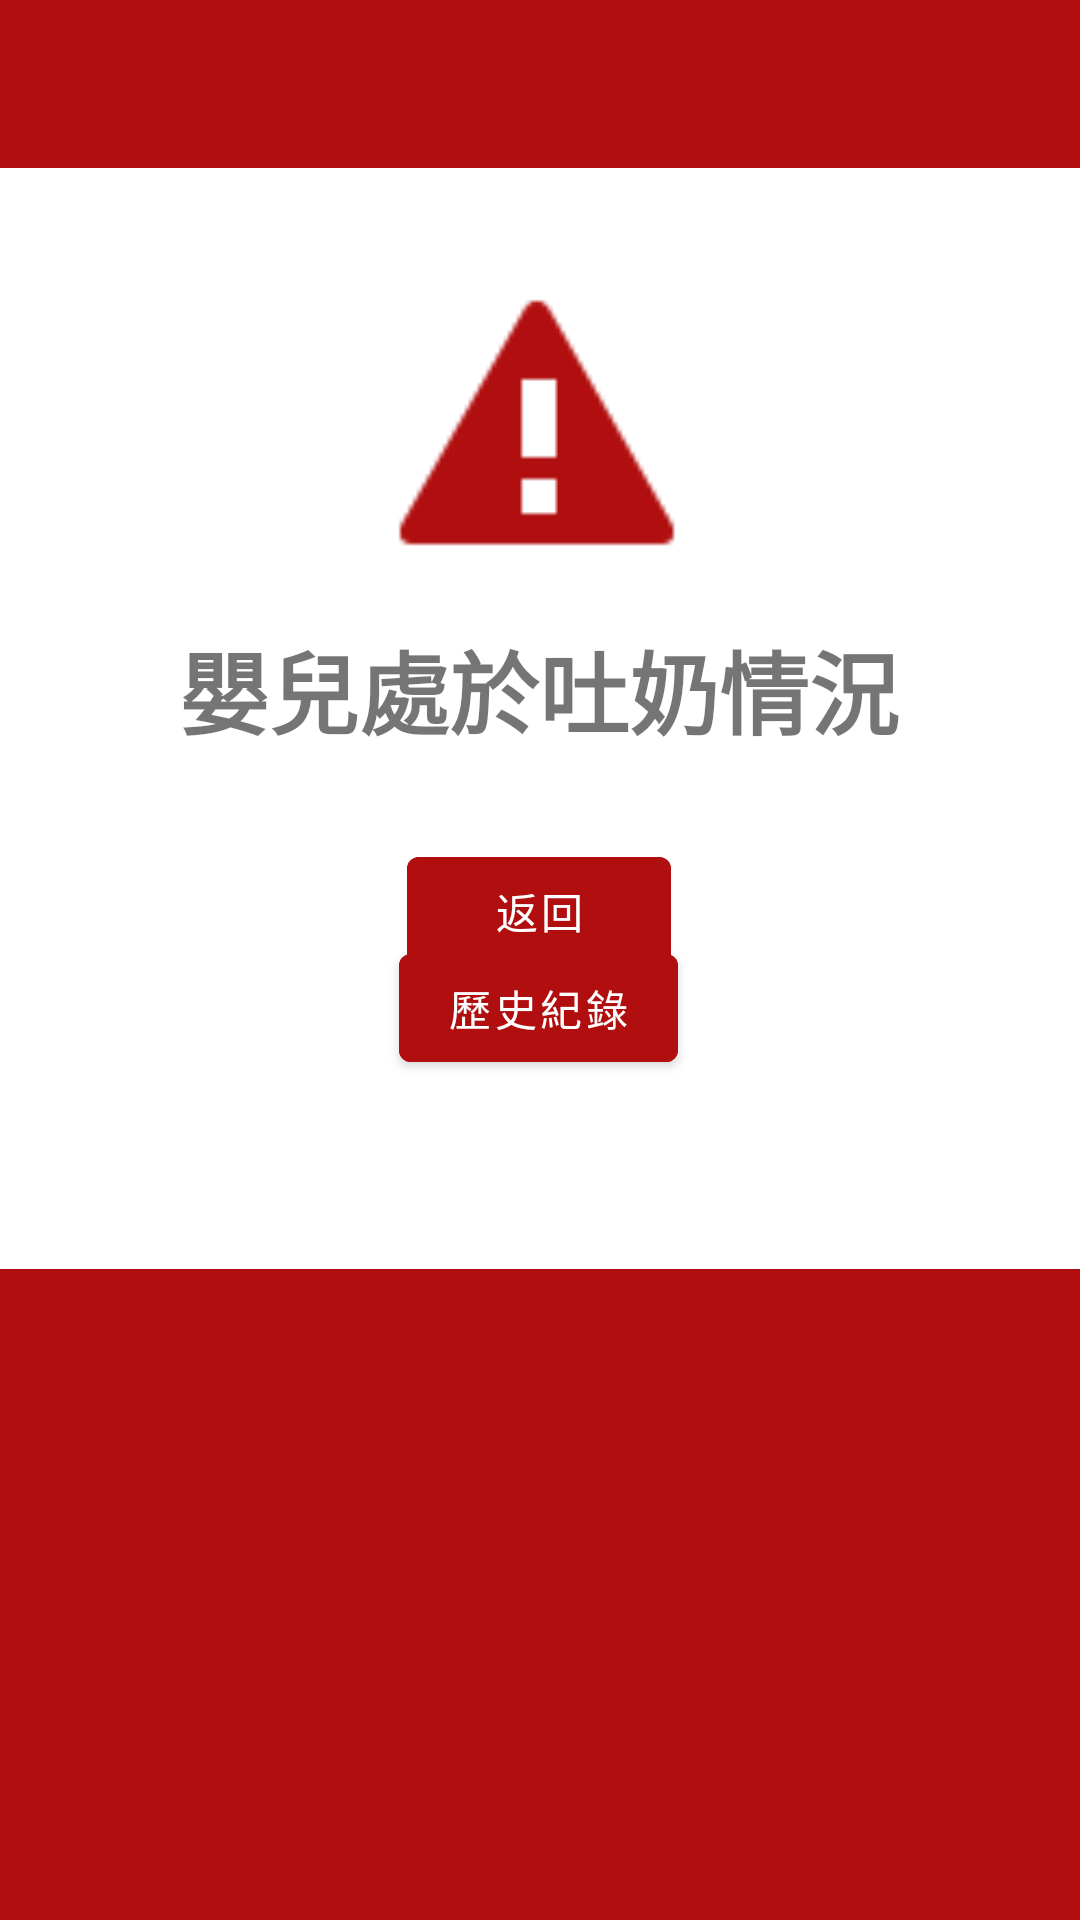

Icons on this 1080 x 1920 Android screen, each with its box as (x1, y1, x2, y2):
warning: (399, 300, 675, 546)
